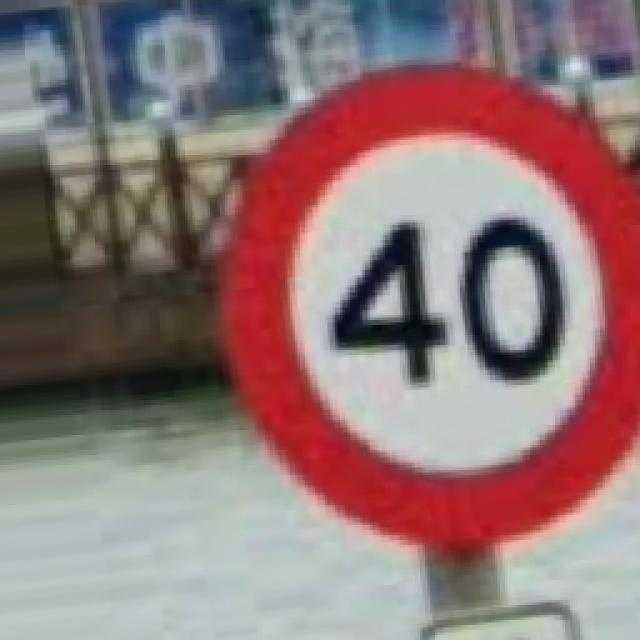Speed Limit -40-: (222, 65, 638, 545)
